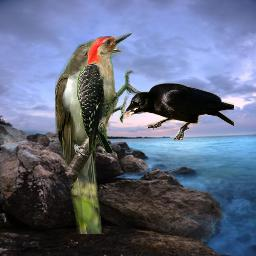Crow: (123, 82, 234, 141)
Cuckoo: (55, 36, 121, 234)
Woodpecker: (77, 33, 141, 153)
